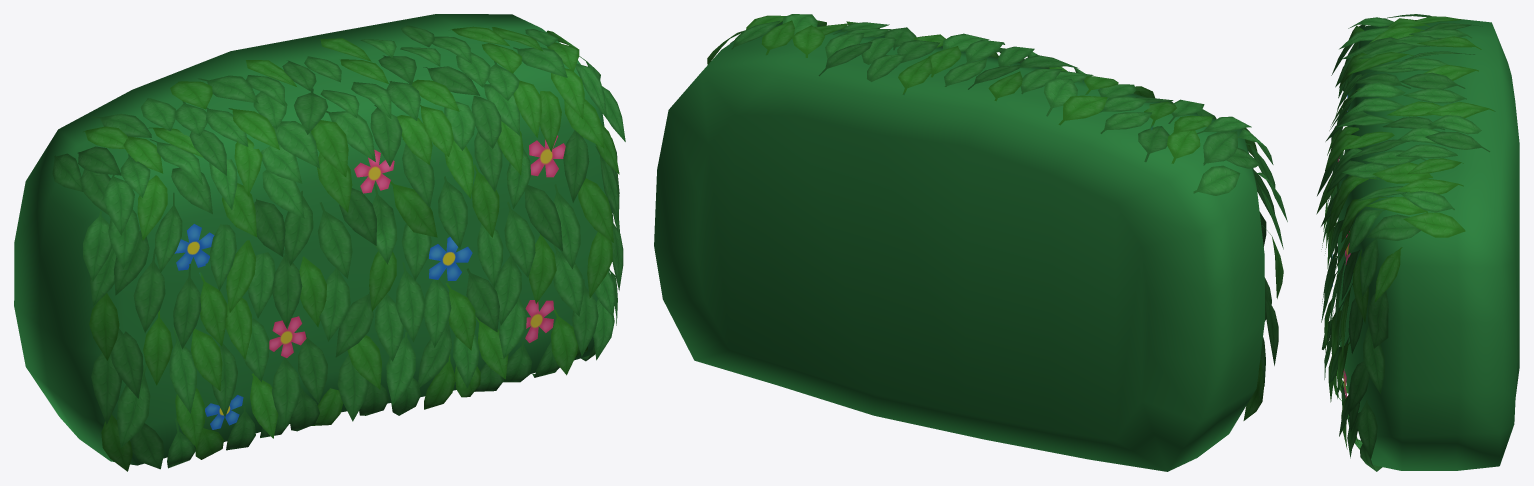
The model's file is ArbustoFlores.fbx.
The picture shows the model from 3 angles, left to right: view 1: azimuth 30°, elevation 25°; view 2: azimuth 150°, elevation 25°; view 3: azimuth 270°, elevation 25°; orthographic projection. The views are drawn at different scales.
Parts seen in each view (by area): view 1: ArbustoFlores; view 2: ArbustoFlores; view 3: ArbustoFlores.
Part boxes in pixels (box(x1,y1,x2,y2)): ArbustoFlores: box(14, 14, 625, 471); ArbustoFlores: box(654, 14, 1287, 471); ArbustoFlores: box(1316, 14, 1519, 471).
Bounding box in the file's own units: 2043 × 1183 × 759.
